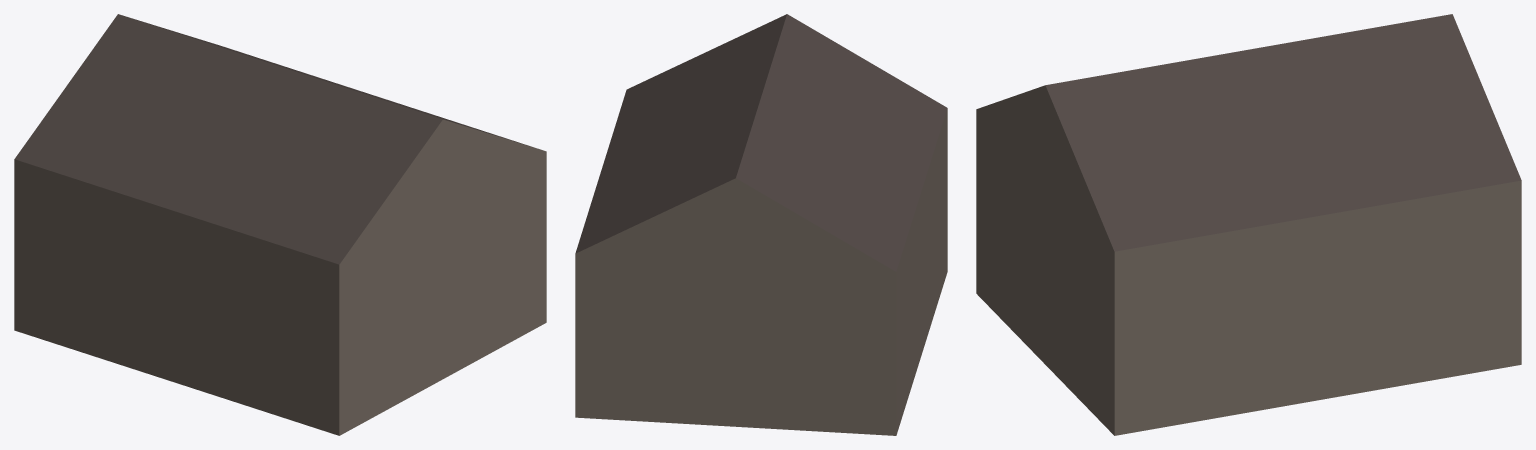
3 views of the same model, side by side, from view 1: azimuth 30°, elevation 25°; view 2: azimuth 150°, elevation 25°; view 3: azimuth 270°, elevation 25° (orthographic). The views are drawn at different scales.
Visible parts, largest first — view 1: HP-w1202250229; view 2: HP-w1202250229; view 3: HP-w1202250229.
Boxes of the visible parts, left/top/right/bottom form: HP-w1202250229: left=14, top=14, right=546, bottom=435; HP-w1202250229: left=575, top=14, right=947, bottom=435; HP-w1202250229: left=976, top=14, right=1521, bottom=435.
Bounding box in the file's own units: 14.92 × 9.1 × 16.1.
